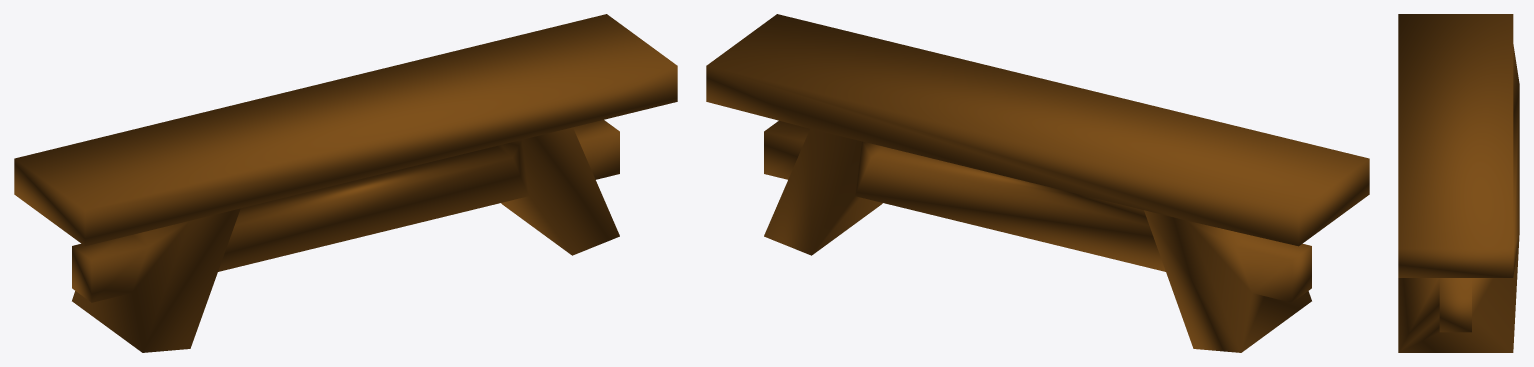
Rendered from Bench.fbx.
3 views of the same model, side by side, from view 1: azimuth 30°, elevation 25°; view 2: azimuth 150°, elevation 25°; view 3: azimuth 270°, elevation 25° (orthographic). The views are drawn at different scales.
Parts seen in each view (by area): view 1: Bench_Outline; view 2: Bench_Outline; view 3: Bench_Outline.
Boxes of the visible parts, x1=… form: Bench_Outline: x1=14, y1=14, x2=677, y2=352; Bench_Outline: x1=706, y1=14, x2=1369, y2=352; Bench_Outline: x1=1398, y1=14, x2=1519, y2=352.
Size of the model in its own units: 6.87 by 1.82 by 1.5.
1 material, 1 textured.
